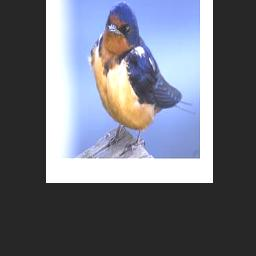Swallow: (87, 0, 196, 156)
